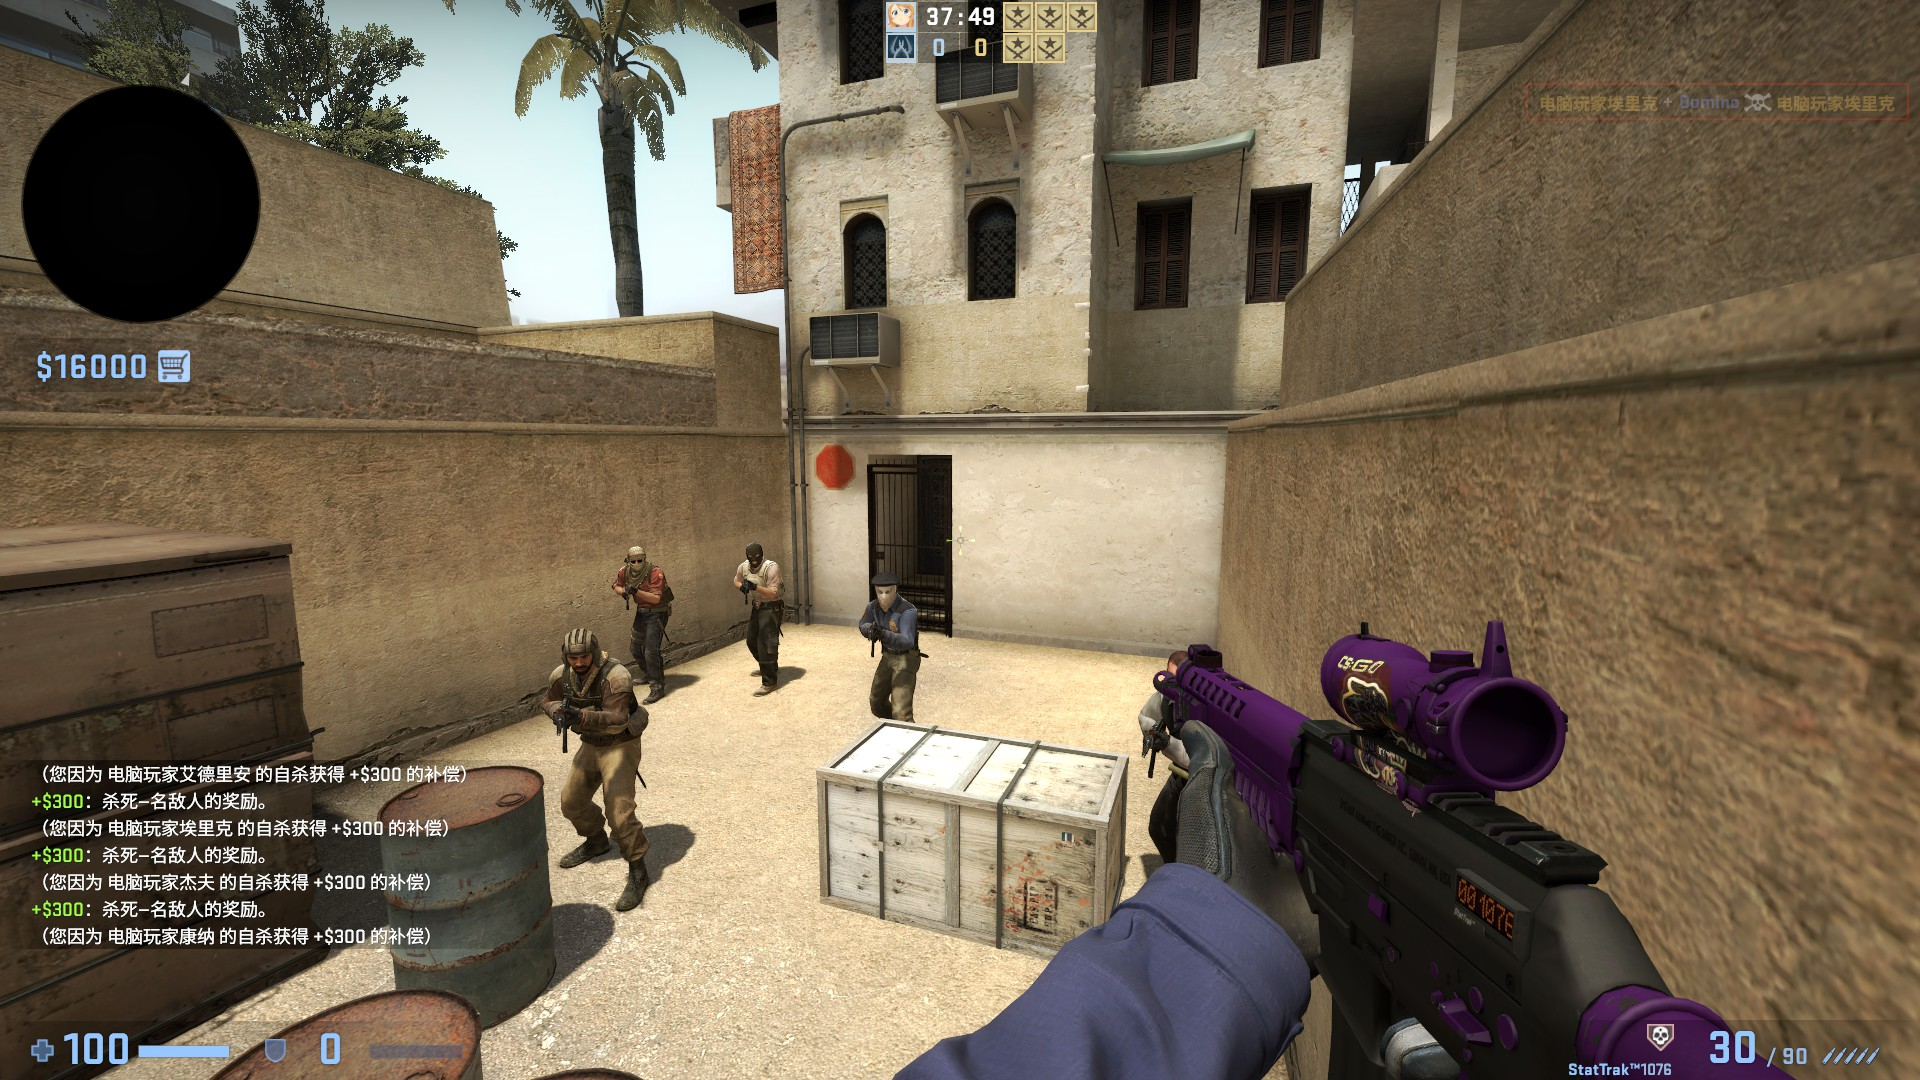head: (561, 628, 597, 676), (868, 570, 899, 610), (623, 544, 647, 573), (742, 539, 765, 568)
